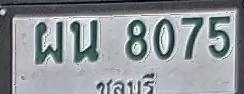0: (154, 18, 174, 59)
5: (209, 15, 230, 57)
7: (181, 16, 203, 59)
8: (125, 19, 146, 60)
A25: (70, 19, 99, 62)
A28: (35, 20, 63, 63)
CBI: (92, 72, 159, 94)
